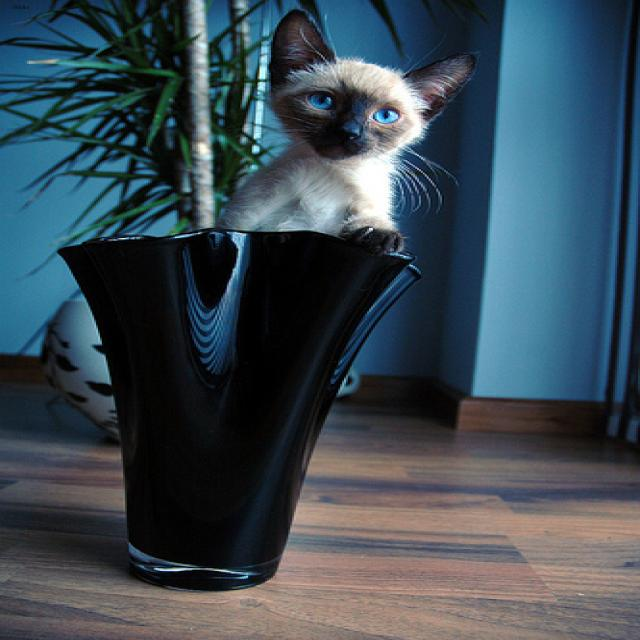cat: (267, 8, 475, 158)
